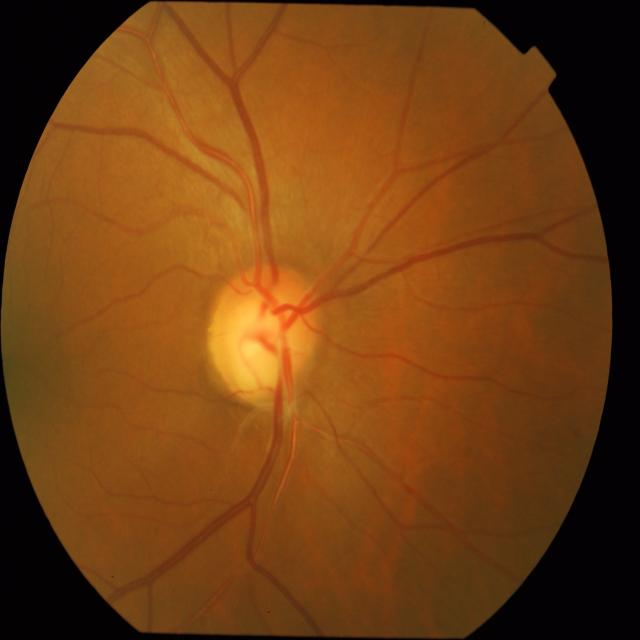OC: (218, 277, 308, 399)
OD: (208, 264, 321, 406)
